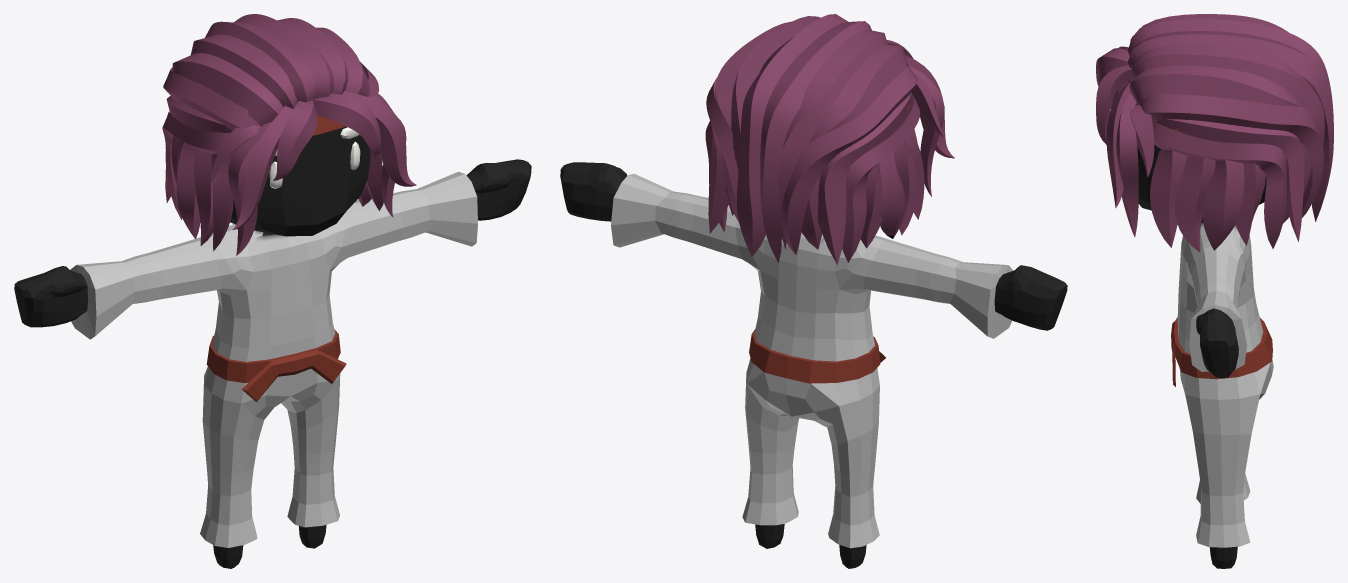
File: Kimono_Female.fbx
3 renders of one model, left to right at view 1: azimuth 30°, elevation 25°; view 2: azimuth 150°, elevation 25°; view 3: azimuth 270°, elevation 25°, orthographic.
Visible parts, largest first — view 1: Body; view 2: Body; view 3: Body.
Part boxes in pixels (bbox=[...]): Body: bbox=[14, 14, 531, 568]; Body: bbox=[560, 14, 1067, 568]; Body: bbox=[1096, 14, 1333, 568].
Size of the model in its own units: 324 by 320 by 133.
Materials: 1 (1 with a texture image).
